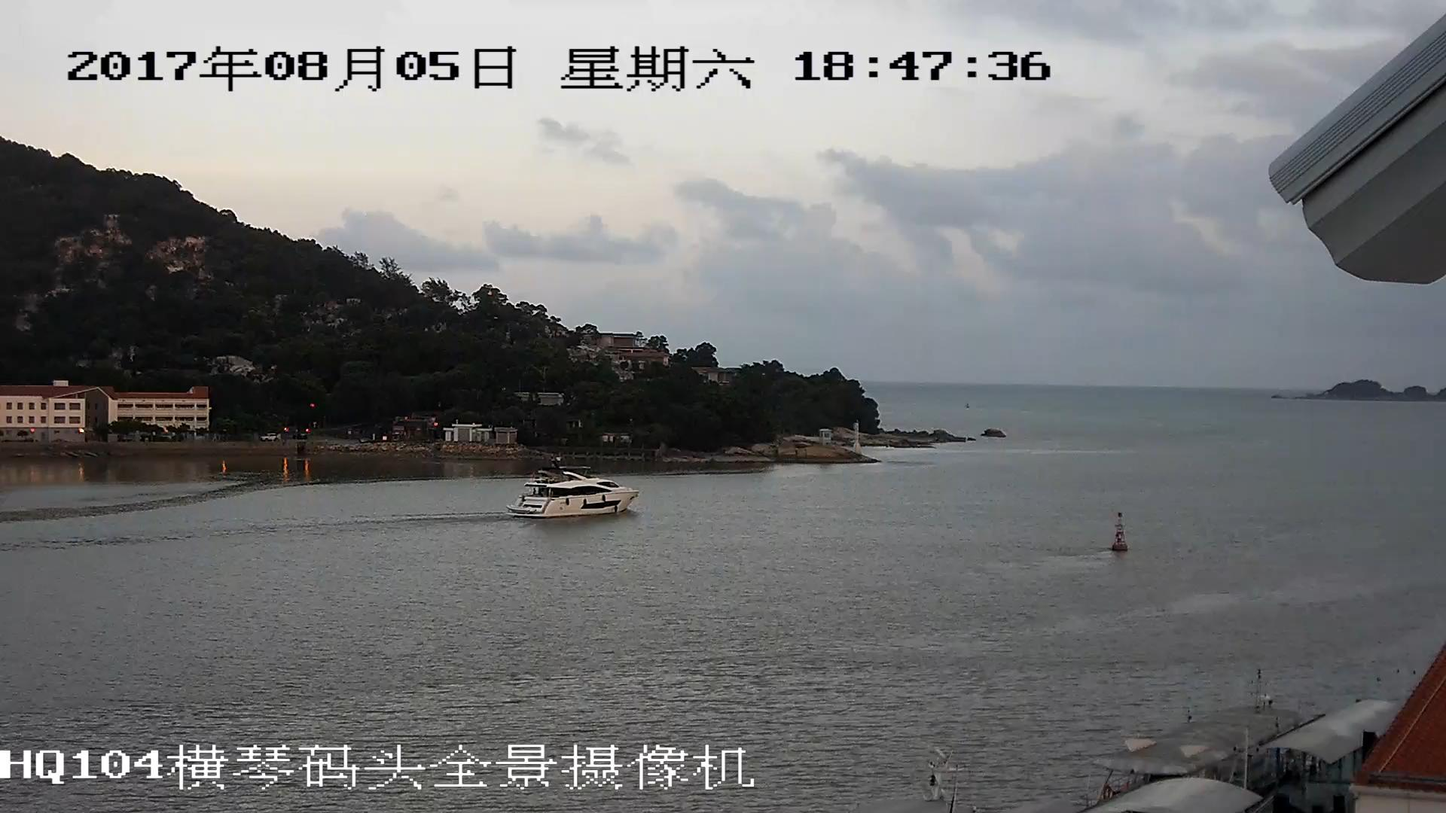passenger ship: (506, 467, 637, 517)
